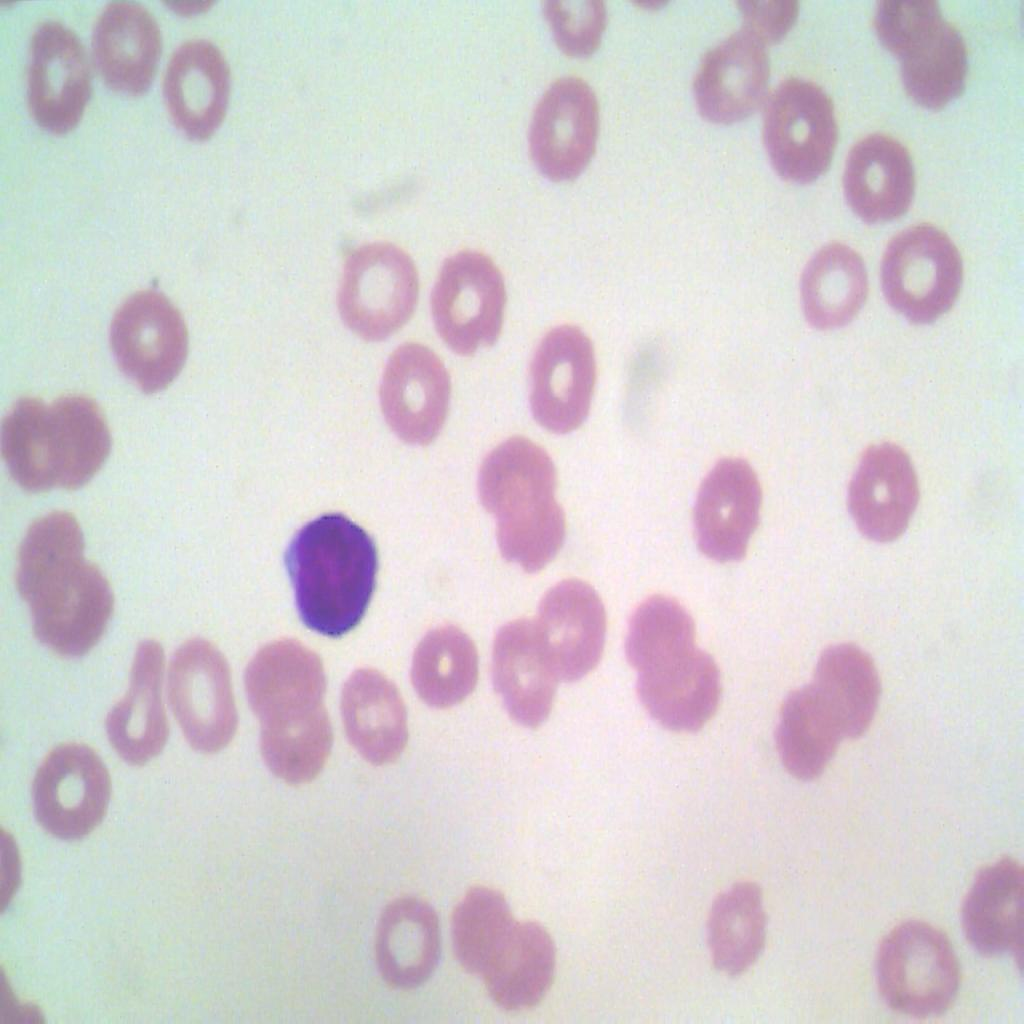Eritrosit: (6, 24, 104, 154), (98, 631, 180, 770), (523, 74, 614, 197), (510, 322, 606, 437), (750, 81, 842, 197), (150, 31, 241, 148), (106, 275, 194, 395), (332, 224, 418, 346), (164, 630, 242, 764), (28, 731, 116, 848), (419, 239, 498, 364), (781, 228, 866, 340), (33, 561, 119, 669), (690, 452, 766, 574), (874, 221, 964, 324), (873, 912, 956, 1023), (529, 570, 611, 680), (368, 887, 454, 991), (334, 661, 418, 767), (838, 128, 920, 234), (632, 642, 722, 738), (253, 692, 335, 795), (376, 340, 451, 451), (688, 29, 774, 124), (42, 390, 122, 492), (488, 620, 561, 730), (846, 448, 928, 544), (694, 874, 771, 968), (809, 641, 878, 740), (248, 634, 330, 716), (959, 855, 1023, 959), (486, 931, 568, 1012), (414, 620, 483, 714), (466, 437, 550, 514), (15, 522, 83, 616), (98, 1, 163, 98), (773, 685, 838, 781), (615, 598, 693, 678), (452, 887, 522, 974), (901, 28, 968, 117), (503, 484, 573, 566), (0, 396, 61, 490), (528, 0, 626, 55), (865, 0, 941, 54)
Limfosit: (278, 506, 384, 648)
